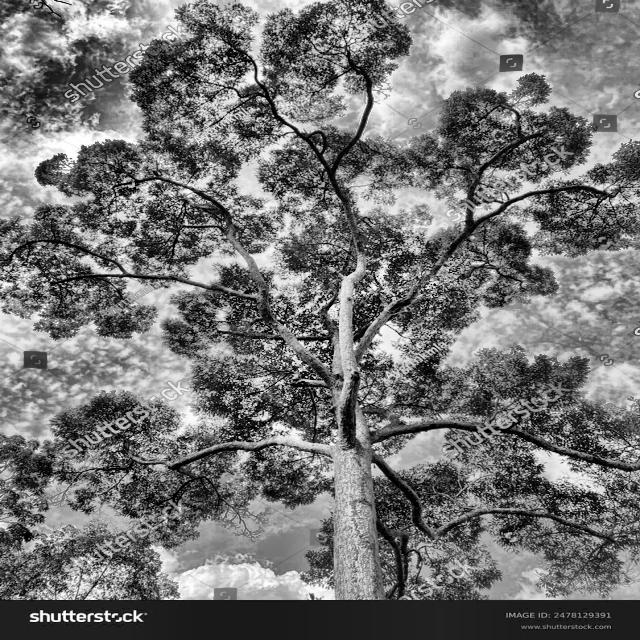arvore: (300, 307, 405, 596)
